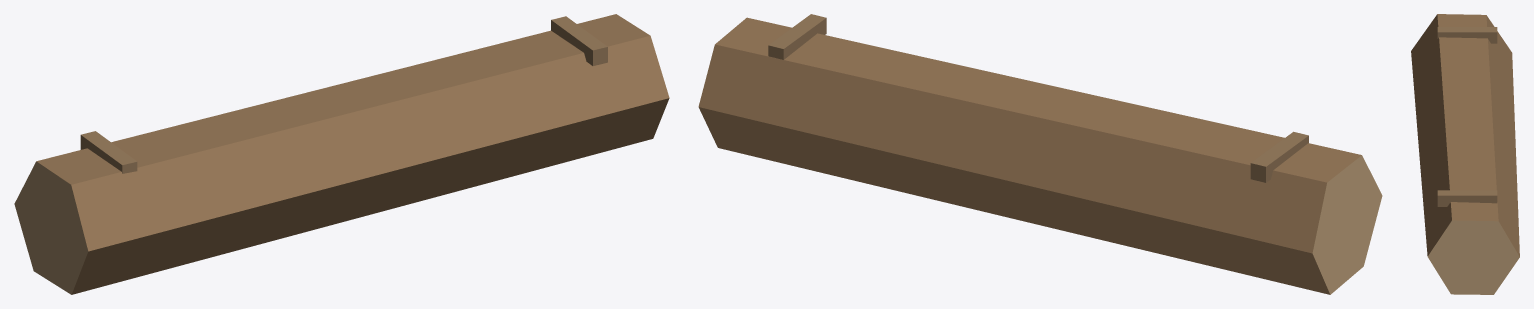
Rendered from wall_log_foundation.glb.
3 renders of one model, left to right at view 1: azimuth 30°, elevation 25°; view 2: azimuth 150°, elevation 25°; view 3: azimuth 270°, elevation 25°, orthographic. The views are drawn at different scales.
Visible parts, largest first — view 1: wall_log_foundation; view 2: wall_log_foundation; view 3: wall_log_foundation.
Boxes of the visible parts, <box> form: wall_log_foundation: <box>14,14,669,294</box>; wall_log_foundation: <box>698,14,1382,294</box>; wall_log_foundation: <box>1411,14,1519,294</box>.
Bounding box in the file's own units: 0.988 × 0.1859 × 0.2198.
